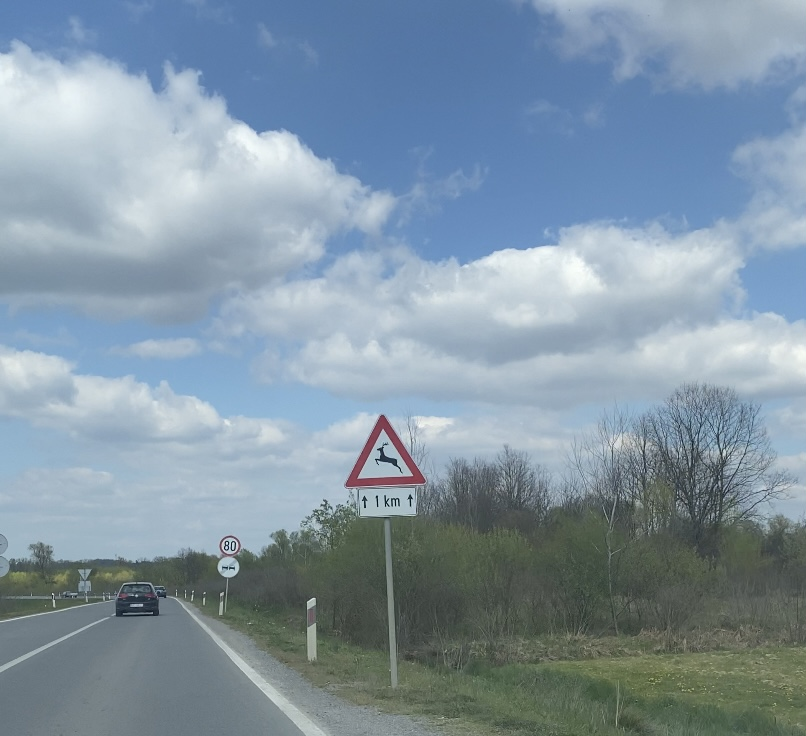Divljač na cesti: (344, 414, 427, 489)
